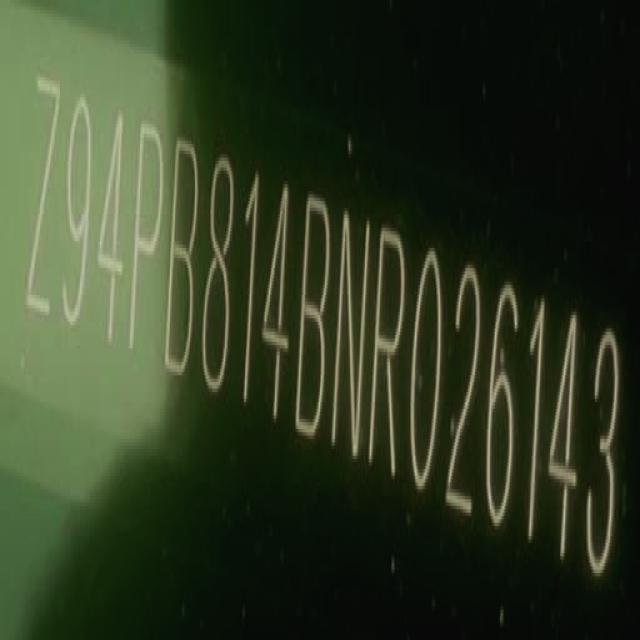0: (407, 238, 443, 509)
1: (521, 302, 546, 554), (238, 172, 260, 404)
2: (445, 266, 482, 521)
3: (586, 324, 620, 574)
4: (548, 312, 582, 574), (261, 173, 293, 433), (96, 105, 126, 348)
6: (486, 277, 520, 532)
8: (202, 150, 235, 397)
9: (61, 85, 94, 348)
B: (163, 135, 200, 395), (296, 194, 330, 448)
N: (332, 206, 372, 468)
P: (129, 119, 163, 361)
R: (371, 214, 406, 486)
Z: (26, 71, 61, 326)
